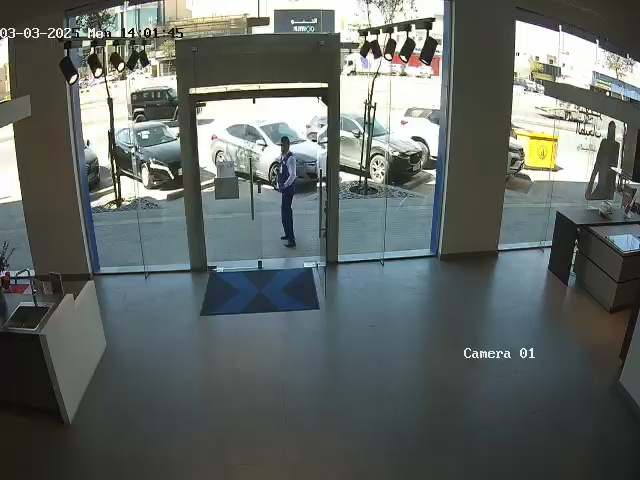employee: (275, 136, 298, 248)
